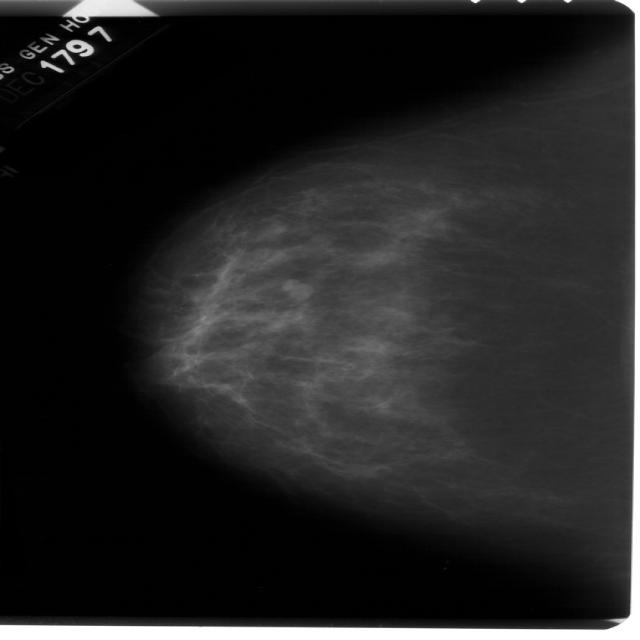tumour: (280, 277, 312, 301)
